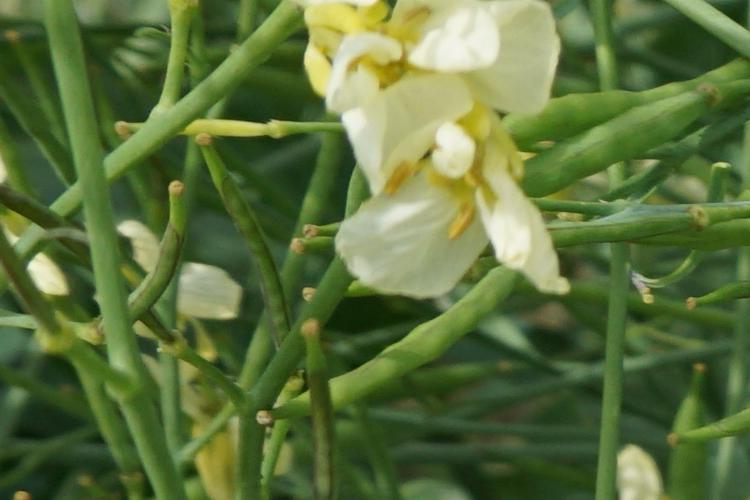pod: (205, 295, 526, 431), (82, 164, 195, 319), (180, 115, 270, 278), (278, 310, 345, 487), (654, 373, 750, 469), (651, 247, 750, 322), (656, 357, 713, 486), (282, 206, 391, 268)
white: (324, 105, 564, 307), (299, 13, 597, 161)
